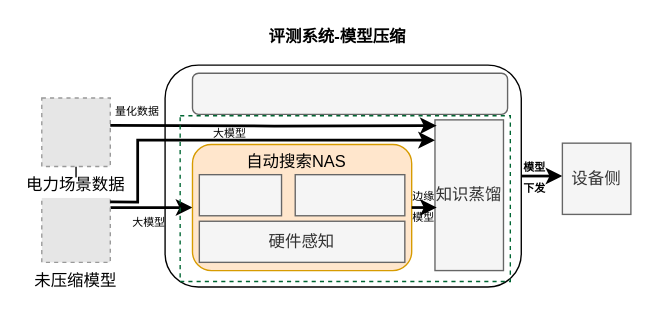
Image size: 655x314. Some labels were removed from this diagram. Grey dashed boxes stand in for pictures. Each missing label, with the box of its shape:
剪枝: (198, 173, 282, 216)
离线量化: (294, 173, 405, 216)
算法自动调优API: (191, 72, 508, 114)
